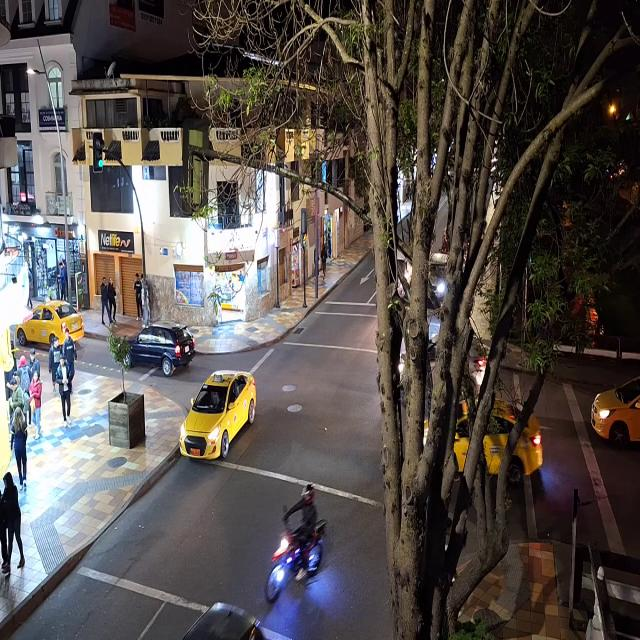MOTORCYCLE: (263, 518, 330, 607)
SED: (184, 369, 250, 455), (588, 376, 638, 446), (19, 304, 82, 344)
